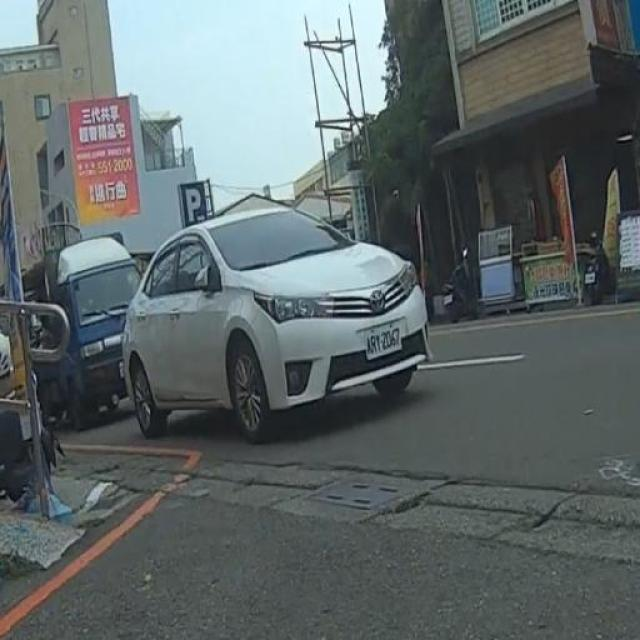illegalparking: (50, 208, 430, 441)
